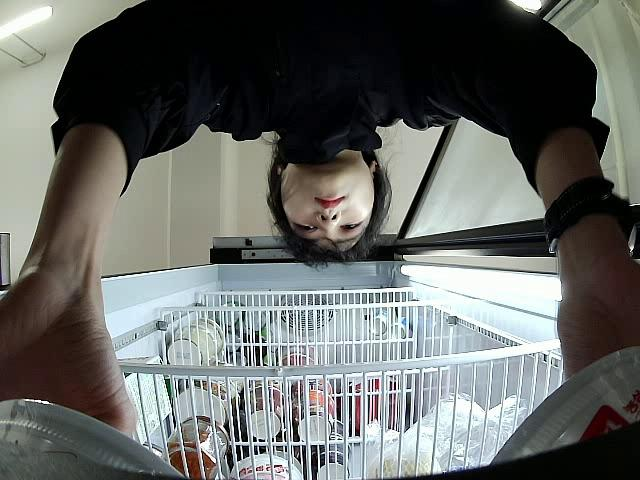09_yukGaeJang: (489, 346, 639, 466), (0, 395, 189, 480)
